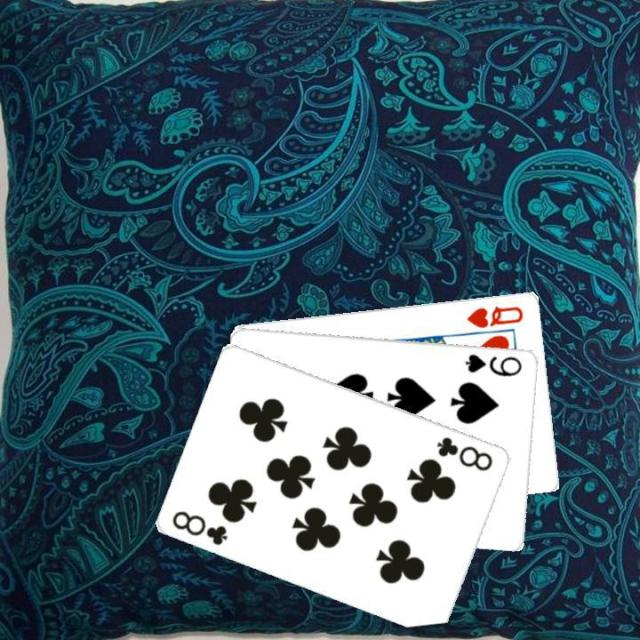8C: (168, 507, 230, 548), (433, 433, 495, 473)
9S: (462, 349, 524, 378)
QH: (463, 301, 525, 330)
